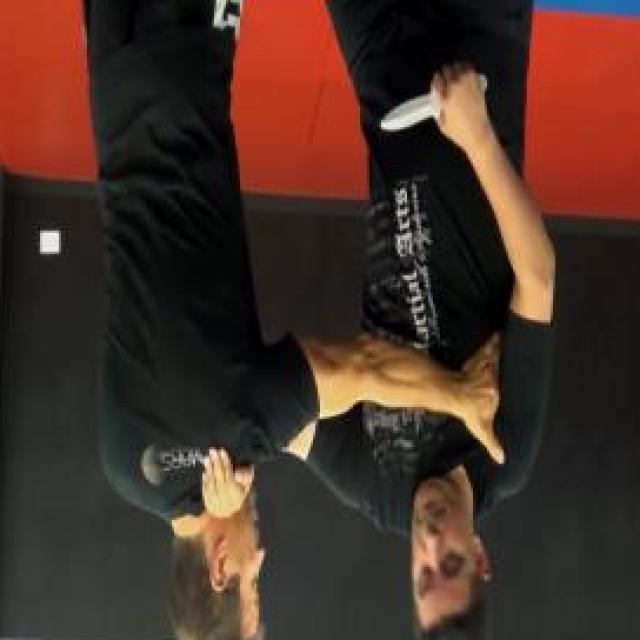knife: (376, 61, 492, 141)
